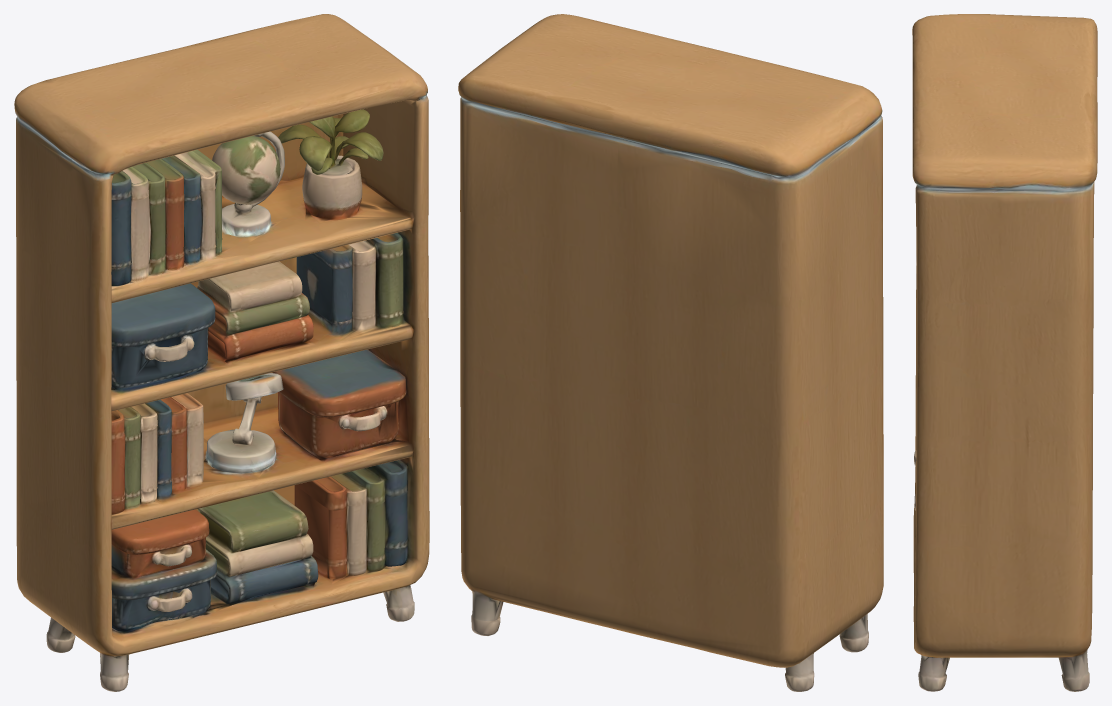
Rendered from bookshelf.high.glb.
3 views of the same model, side by side, from view 1: azimuth 30°, elevation 25°; view 2: azimuth 150°, elevation 25°; view 3: azimuth 270°, elevation 25° (orthographic). The views are drawn at different scales.
Parts seen in each view (by area): view 1: tripo_node_c3d11c1c-dbd2-4693-8c50-616202747c64; view 2: tripo_node_c3d11c1c-dbd2-4693-8c50-616202747c64; view 3: tripo_node_c3d11c1c-dbd2-4693-8c50-616202747c64.
Boxes of the visible parts, left/top/right/bottom form: tripo_node_c3d11c1c-dbd2-4693-8c50-616202747c64: left=14, top=14, right=429, bottom=691; tripo_node_c3d11c1c-dbd2-4693-8c50-616202747c64: left=458, top=14, right=883, bottom=691; tripo_node_c3d11c1c-dbd2-4693-8c50-616202747c64: left=912, top=14, right=1097, bottom=691.
Size of the model in its own units: 1.1 by 1.7 by 0.5332.
1 material, 1 textured.
